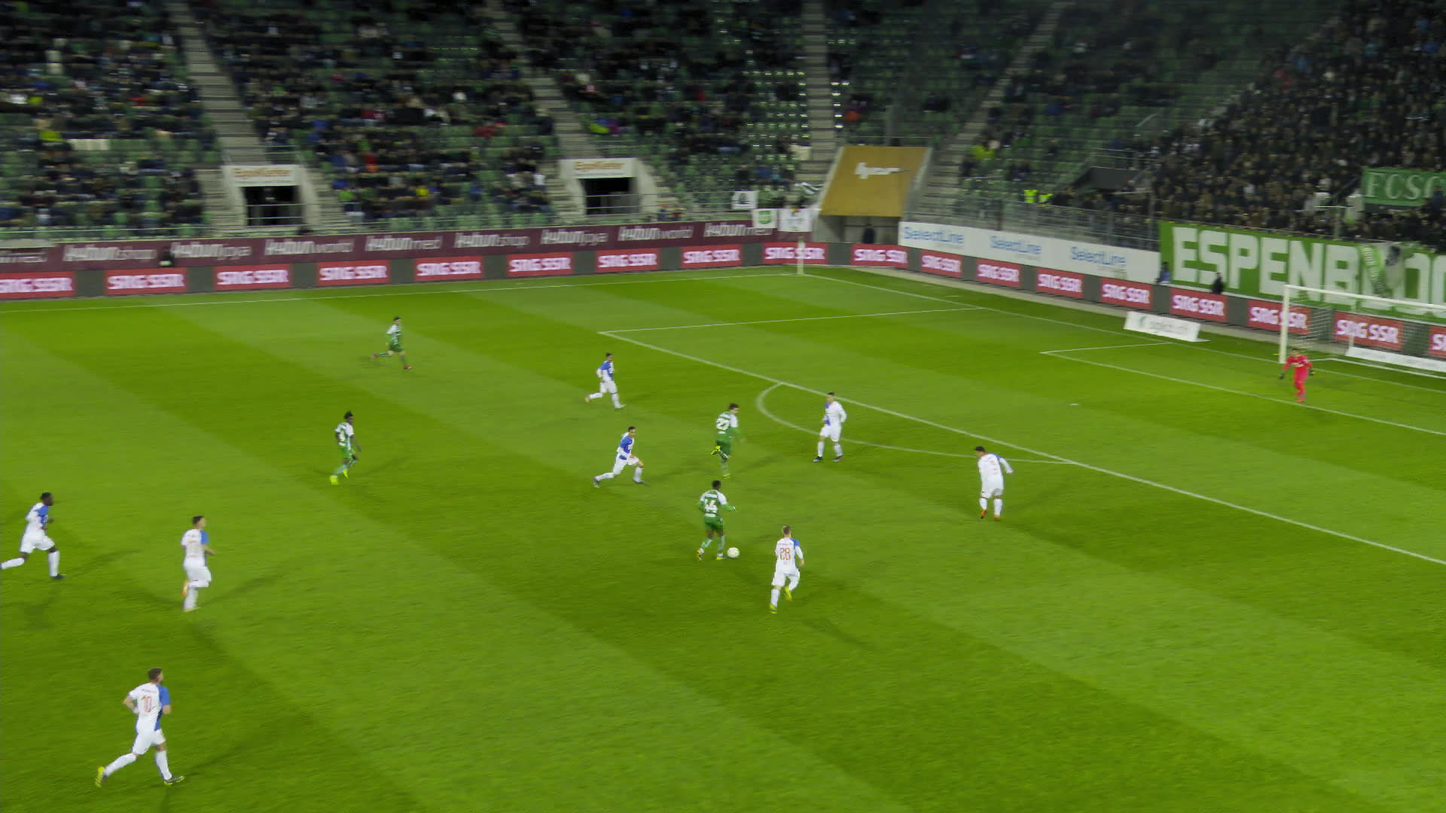ball: (728, 547, 738, 557)
player: (102, 669, 175, 796), (8, 491, 60, 589), (765, 524, 805, 614), (596, 425, 650, 489), (179, 514, 214, 612), (700, 482, 738, 562), (975, 445, 1016, 519), (709, 401, 746, 479), (328, 410, 361, 488), (811, 390, 847, 461), (588, 352, 627, 411), (371, 315, 411, 370), (1277, 347, 1313, 401)
